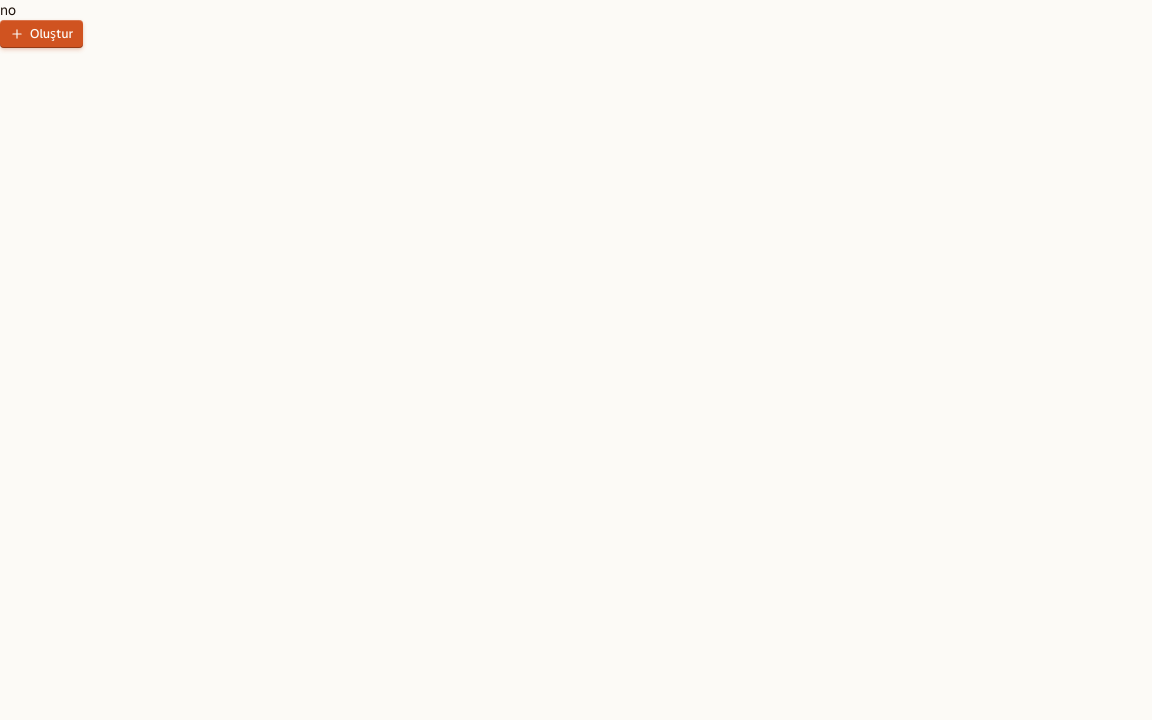
Scenario: CreateButton › opens the Task Create Modal when clicked
Check: the text with test id "is-open" reads "no", box [0,1,16,19]
Click the button "Oluştur" at (42, 34), box [0,20,83,48]
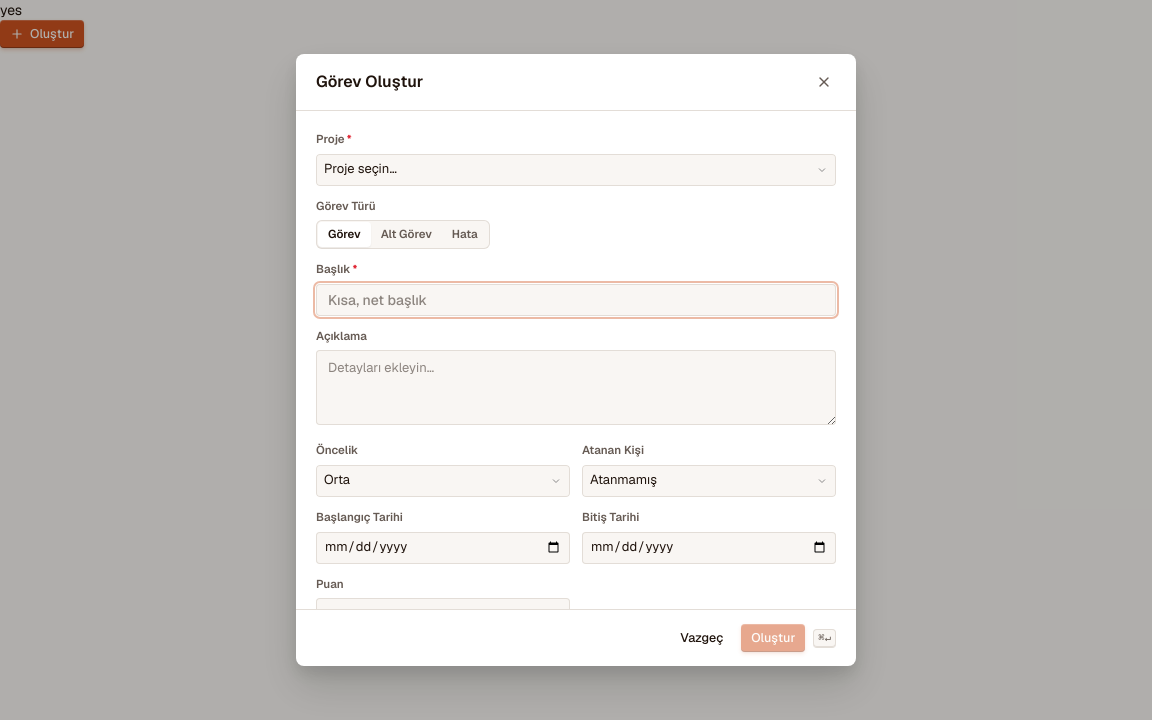
Check: the text with test id "is-open" reads "yes", box [0,1,22,19]
Check: the text "Görev Oluştur" is shown, box [316,71,423,92]
